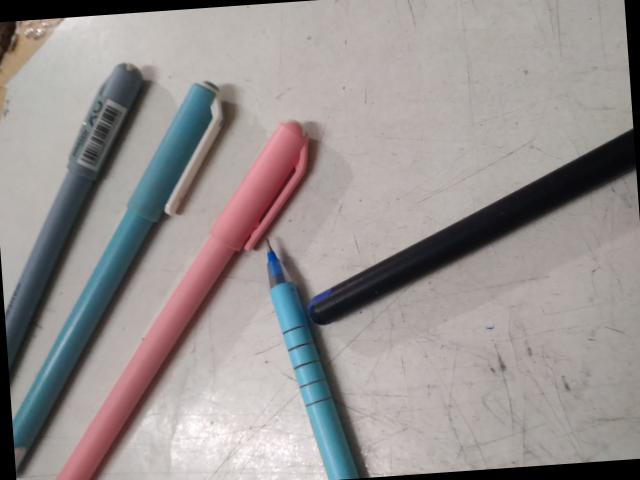PEN: (0, 41, 400, 350), (155, 298, 351, 480), (6, 260, 246, 367)
